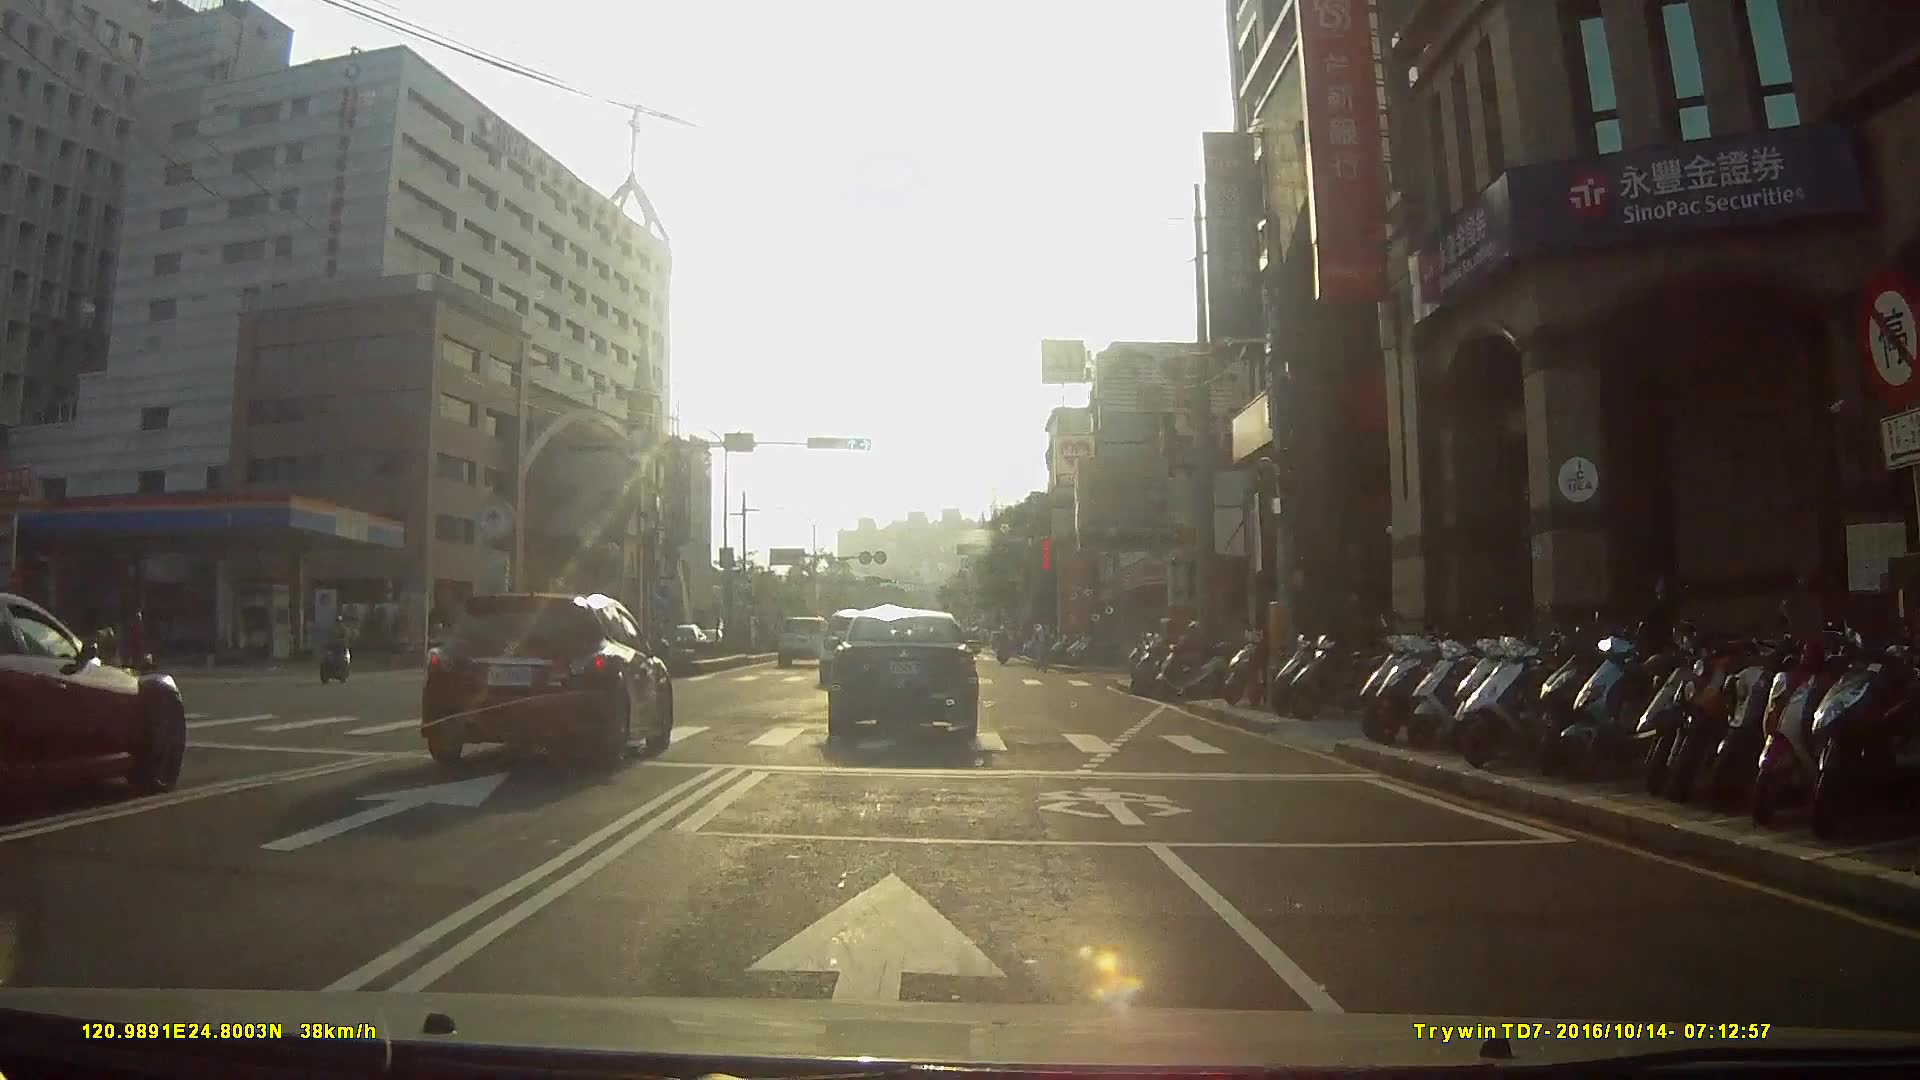rider: (1146, 618, 1240, 705), (110, 612, 155, 687), (320, 615, 358, 686)
vehicle: (412, 586, 684, 778), (1, 600, 196, 818), (822, 607, 991, 747), (779, 611, 838, 666)
